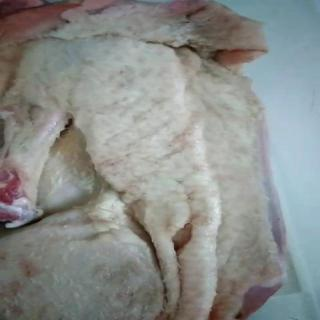Ayam: (1, 1, 289, 320)
